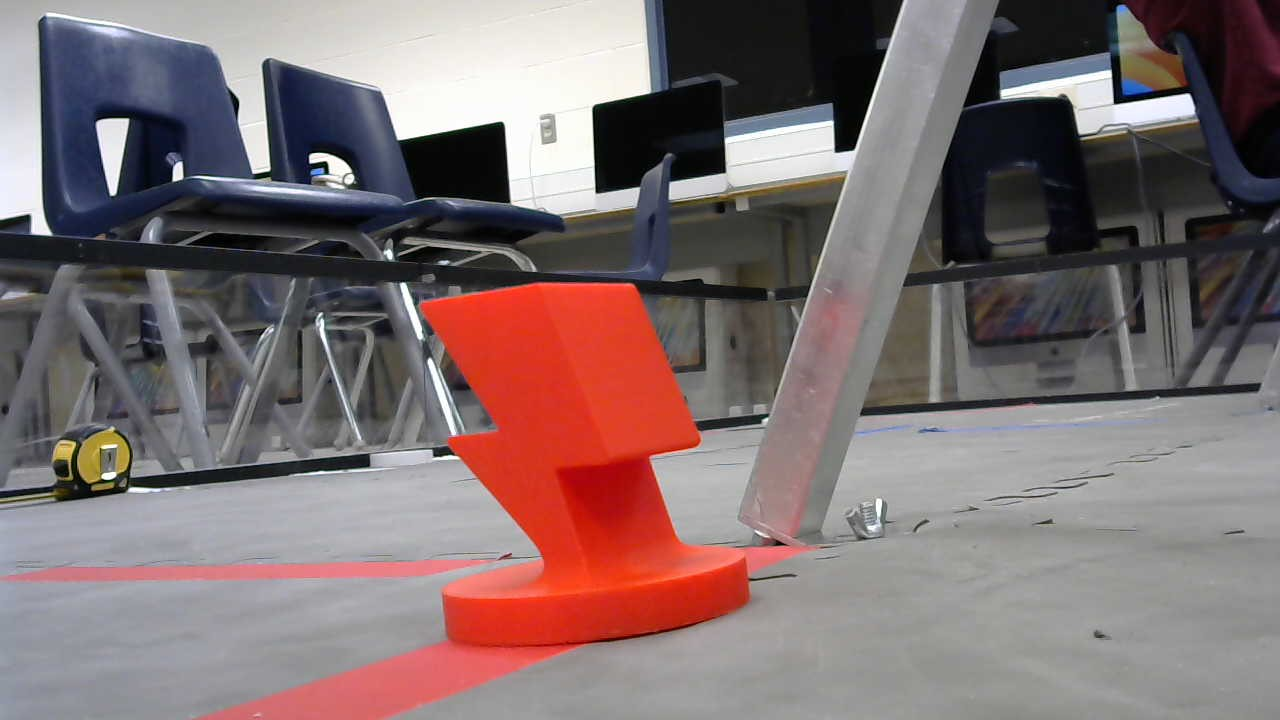redobject: (412, 284, 758, 647)
